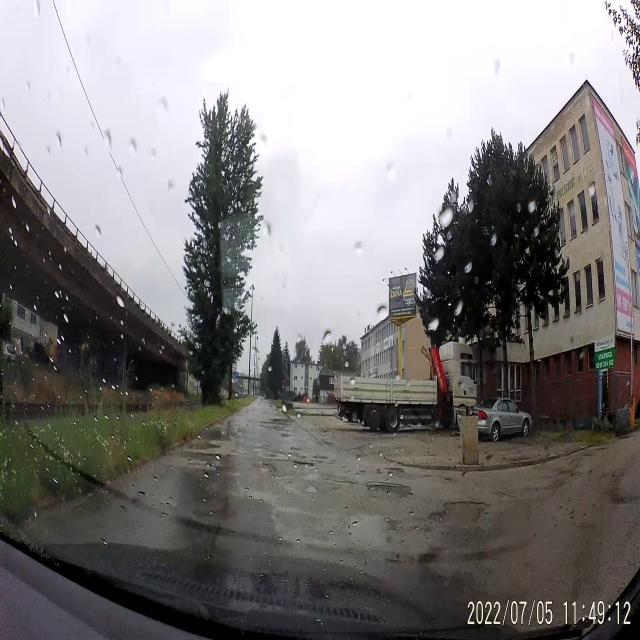Pothole: (429, 492, 492, 538), (366, 478, 416, 502), (291, 457, 319, 472), (332, 475, 358, 490), (416, 550, 439, 566), (258, 460, 279, 477), (384, 462, 406, 478), (304, 484, 320, 496)
